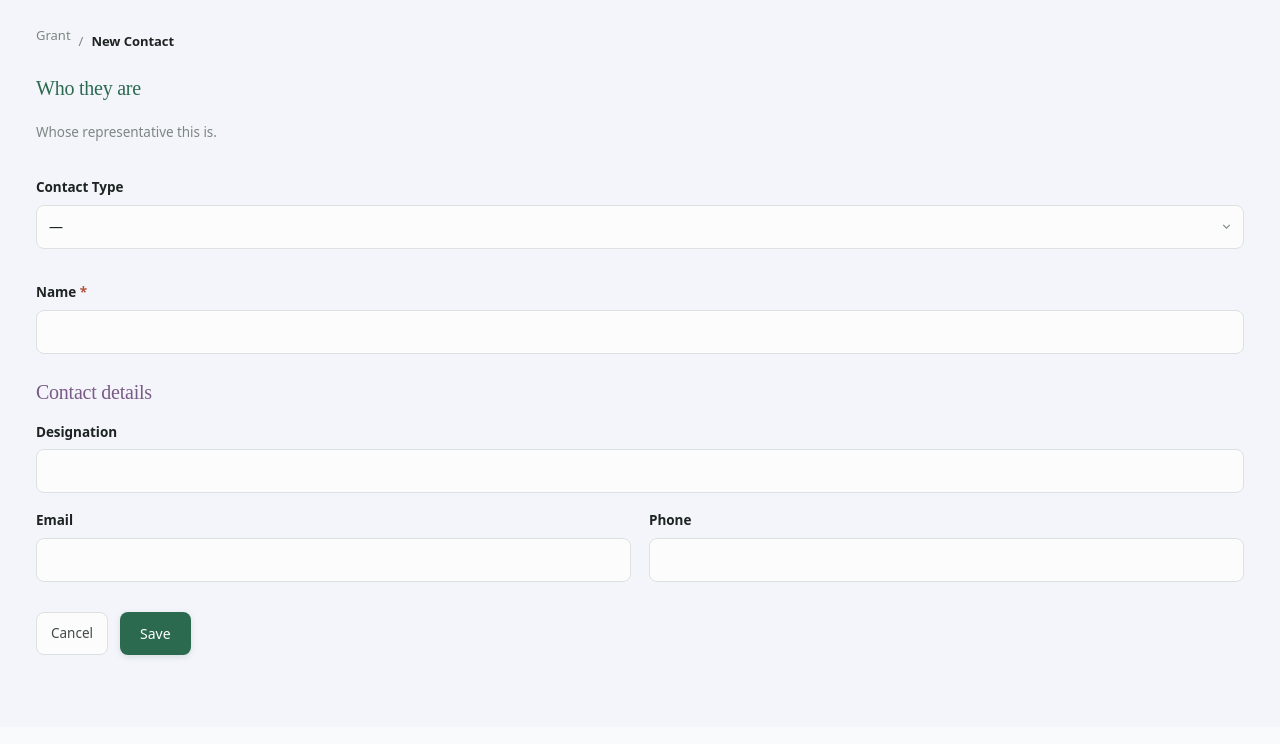
it: creating a contact › a partner with no CSR partner record says its type is not set yet
Select "Partner representative" in the dropdown labelled "Contact Type" at (640, 227), box [36,205,1244,249]
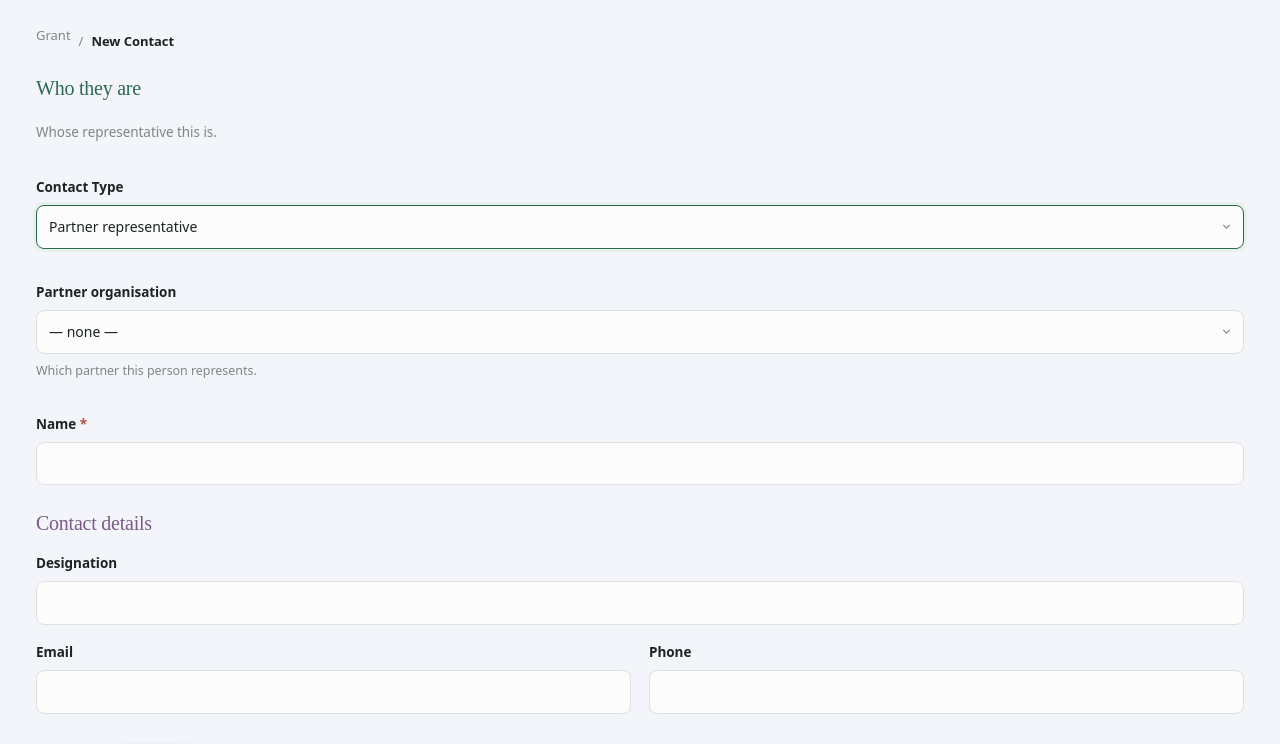
Select "A1 Classes" in the dropdown labelled "Partner organisation" at (640, 332), box [36,310,1244,354]
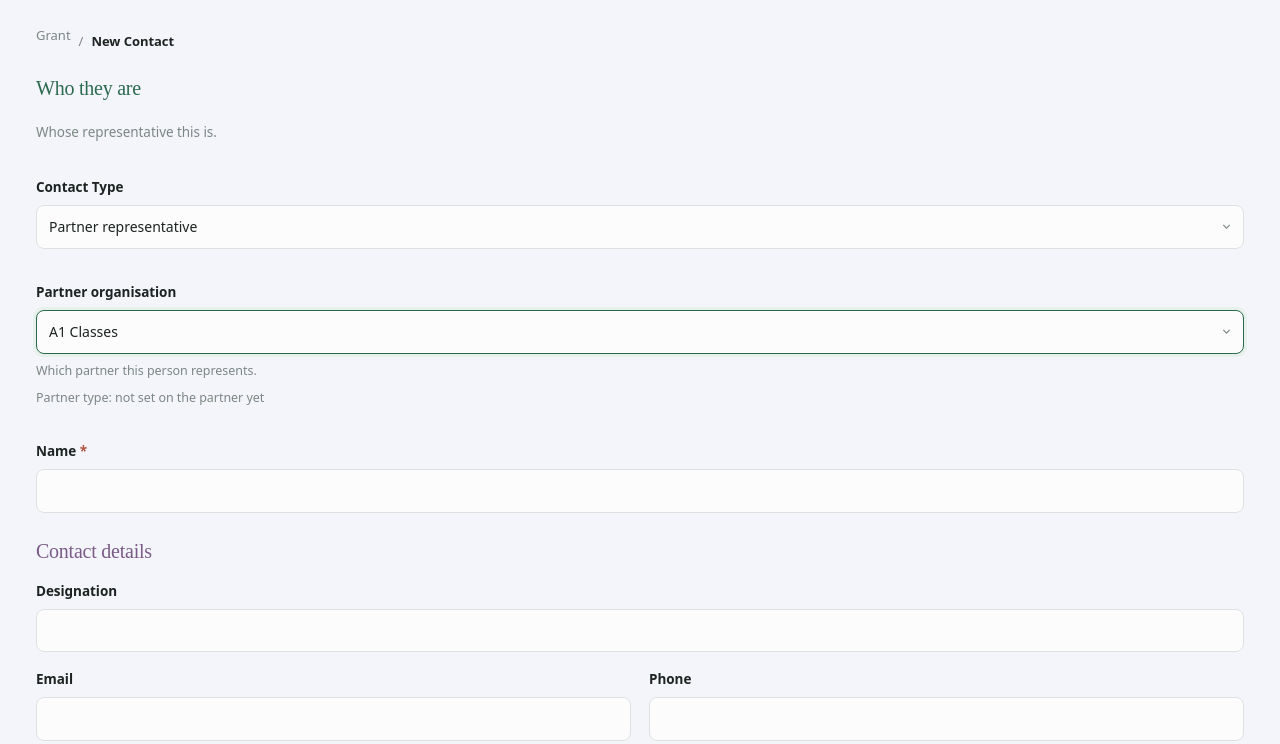
Expected: the text "Partner type: not set on the partner yet" is shown, [36,389,264,406]
